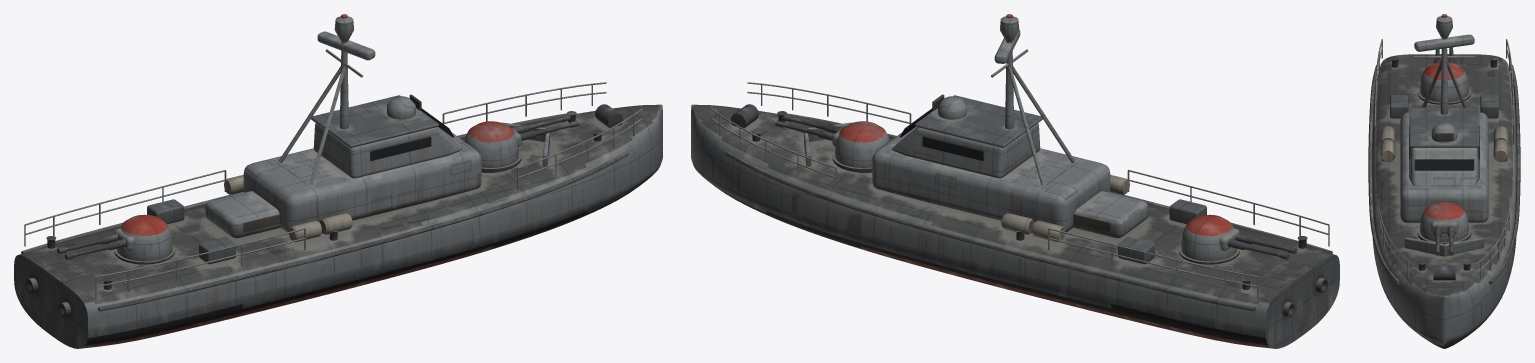
The model's file is fh_battle_e_ship_aa.glb.
3 views of the same model, side by side, from view 1: azimuth 30°, elevation 25°; view 2: azimuth 150°, elevation 25°; view 3: azimuth 270°, elevation 25° (orthographic). The views are drawn at different scales.
Visible parts, largest first — view 1: body; view 2: body; view 3: body.
Boxes of the visible parts, x1,y1,x2,y2 form: body: (14,14,662,348); body: (691,14,1339,348); body: (1368,14,1520,348).
Bounding box in the file's own units: 1 × 0.4044 × 0.245.
2 materials, 2 textured.
